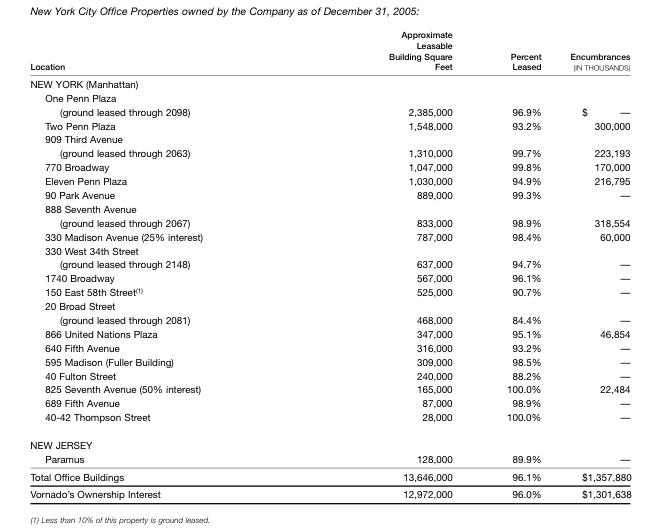table: (29, 28, 630, 499)
table column: (29, 28, 295, 499), (295, 28, 478, 499), (478, 28, 555, 499), (555, 28, 630, 499)
table column header: (29, 28, 630, 74)
table projected row header: (29, 430, 630, 451), (29, 74, 630, 90)
table row: (29, 28, 630, 74), (29, 90, 630, 118), (29, 131, 630, 159), (29, 201, 630, 229), (29, 242, 630, 270), (29, 298, 630, 326), (29, 409, 630, 430), (29, 430, 630, 451), (29, 467, 630, 484), (29, 74, 630, 90), (29, 451, 630, 467), (29, 484, 630, 499), (29, 159, 630, 173), (29, 173, 630, 187), (29, 187, 630, 201), (29, 270, 630, 284), (29, 284, 630, 298), (29, 326, 630, 340), (29, 340, 630, 354), (29, 367, 630, 381), (29, 381, 630, 395), (29, 395, 630, 409), (29, 118, 630, 131), (29, 229, 630, 242), (29, 354, 630, 367)
